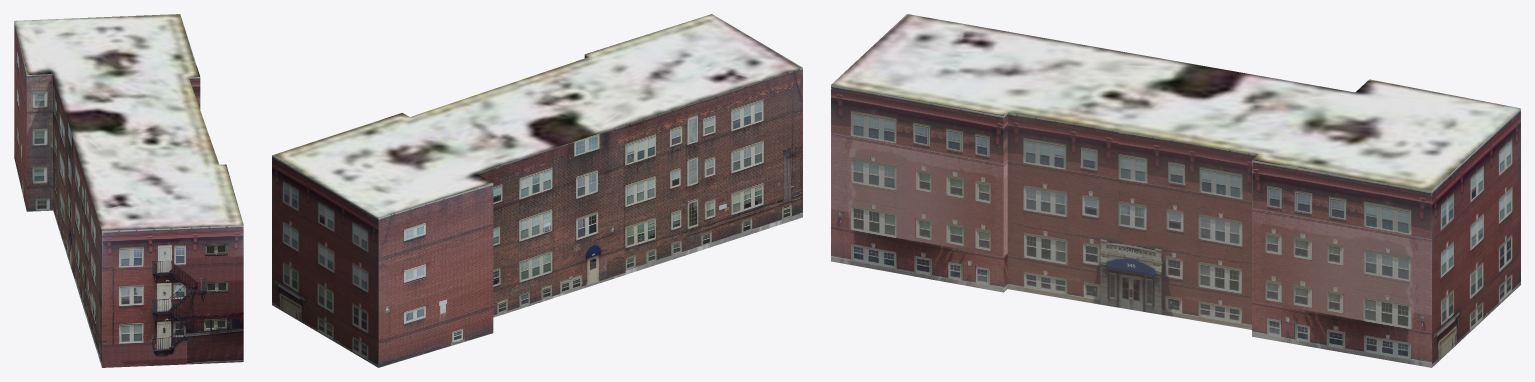
File: EastEndApts2.fbx
3 renders of one model, left to right at view 1: azimuth 30°, elevation 25°; view 2: azimuth 150°, elevation 25°; view 3: azimuth 270°, elevation 25°, orthographic. The views are drawn at different scales.
Visible parts, largest first — view 1: Model; view 2: Model; view 3: Model.
Boxes of the visible parts, left/top/right/bottom form: Model: left=14, top=14, right=243, bottom=367; Model: left=272, top=14, right=802, bottom=367; Model: left=831, top=14, right=1520, bottom=367.
Size of the model in its own units: 78.18 by 36.31 by 129.
